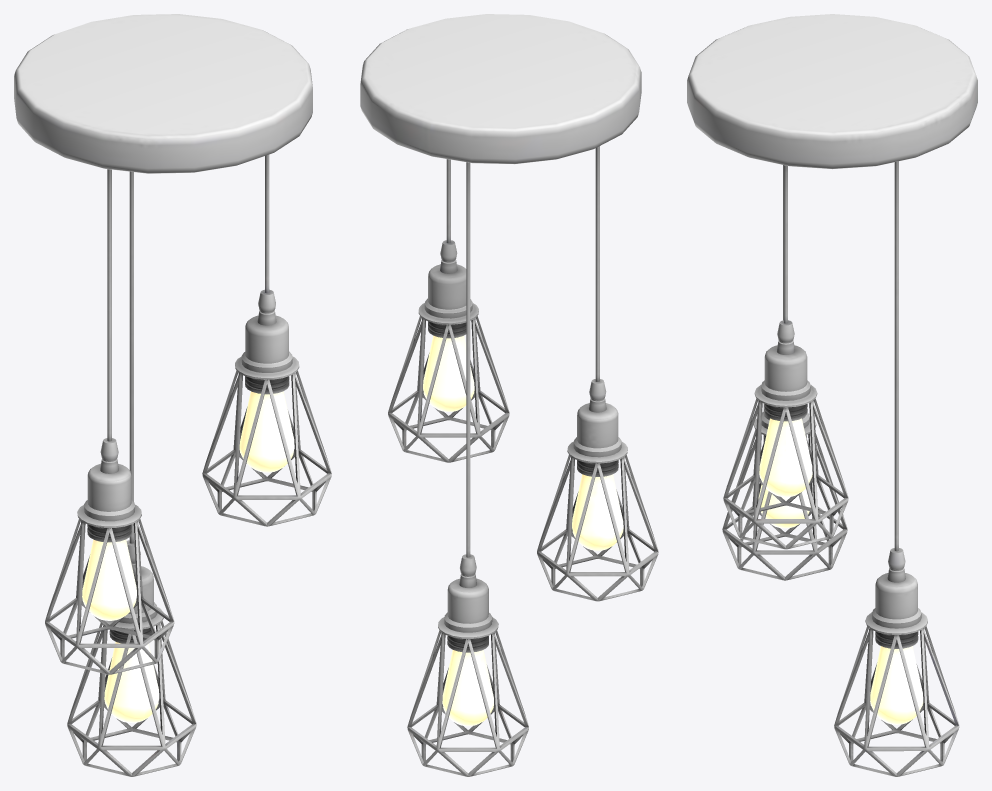
File: ceiling-lamp-4.glb
3 renders of one model, left to right at view 1: azimuth 30°, elevation 25°; view 2: azimuth 150°, elevation 25°; view 3: azimuth 270°, elevation 25°, orthographic. The views are drawn at different scales.
Parts seen in each view (by area): view 1: base, Lamp2.001, Lamp1.001, Lamp3.001; view 2: base, Lamp3.001, Lamp1.001, Lamp2.001; view 3: base, Lamp2.001, Lamp3.001, Lamp1.001.
Part boxes in pixels (x1,y1,x2,y2): base: (14,14,331,776); Lamp2.001: (239,391,294,472); Lamp1.001: (82,539,136,620); Lamp3.001: (104,642,159,722); base: (360,14,658,776); Lamp3.001: (442,650,493,726); Lamp1.001: (572,474,623,550); Lamp2.001: (423,335,474,411); base: (687,14,977,776); Lamp2.001: (759,418,812,497); Lamp3.001: (870,646,923,724); Lamp1.001: (758,484,810,528).
Bounding box in the file's own units: 0.583 × 1.51 × 0.583.
Materials: 1 (1 with a texture image).
